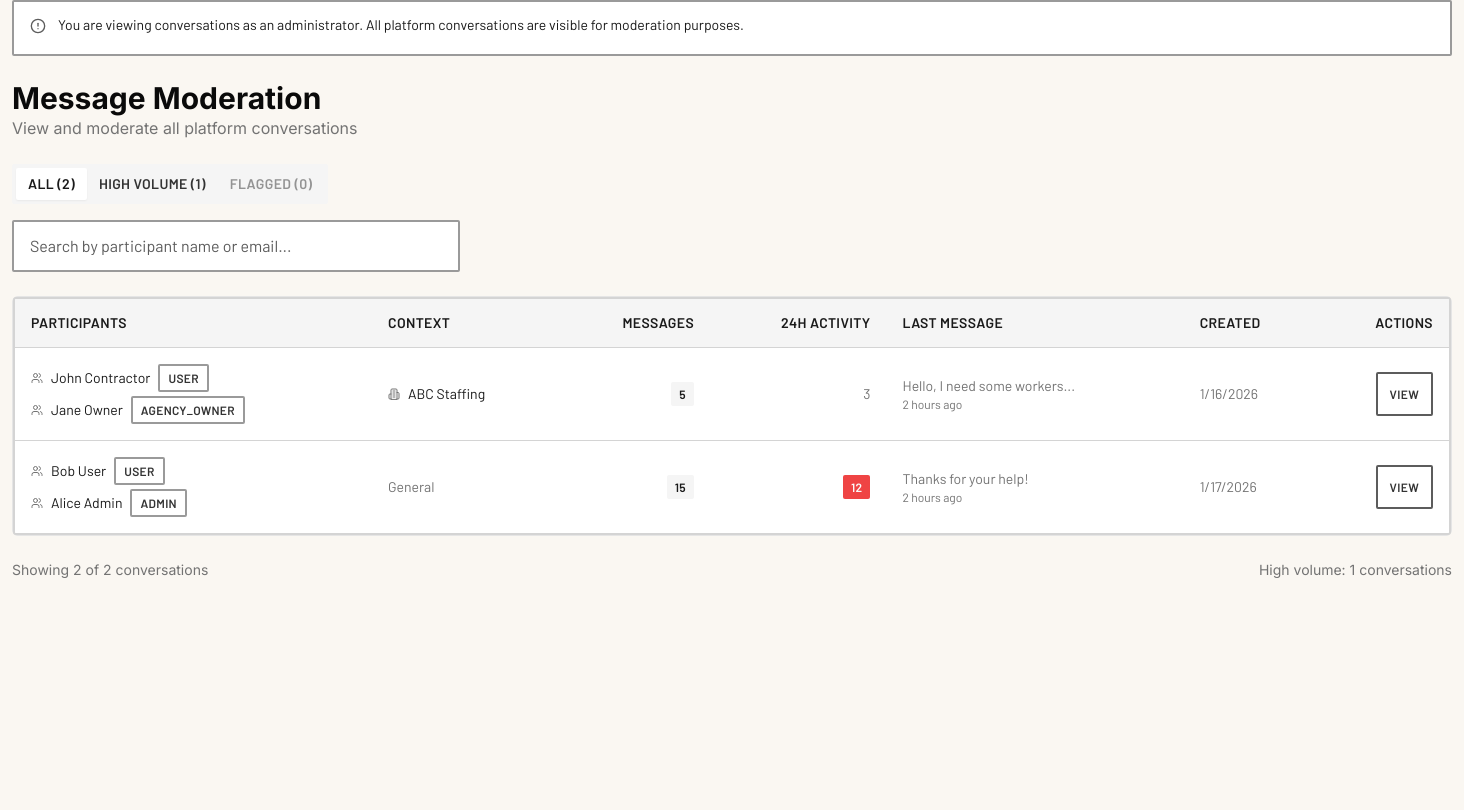
Test case: AdminMessagesClient › Search Functionality › should clear results when search is cleared
Note: Type search
Type "John" into the search field with placeholder "Search by participant name or email..." at (236, 246), box [12, 220, 460, 272]
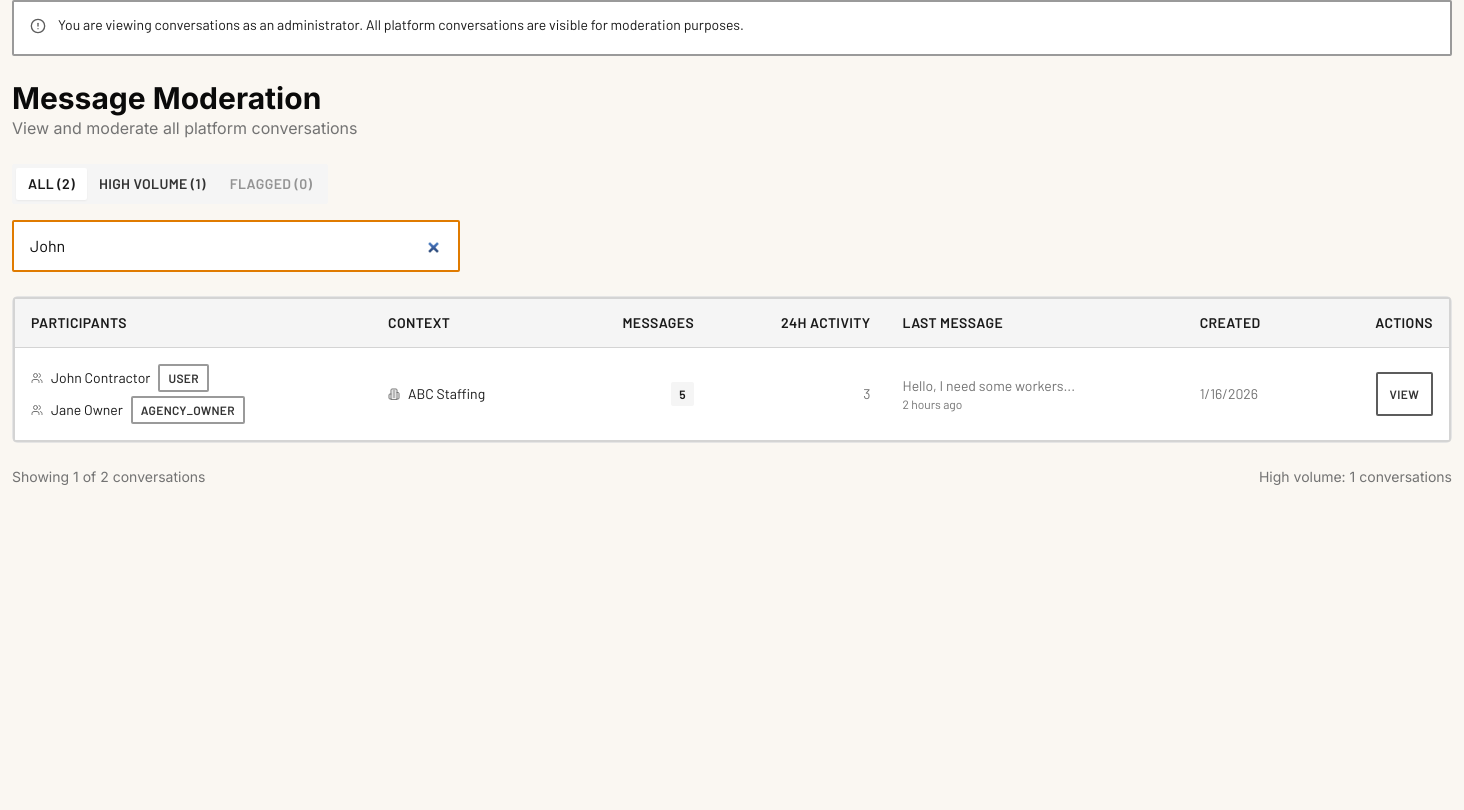
Check: the text "Bob User" is gone
Note: Clear search
Clear the search field with placeholder "Search by participant name or email..." at (236, 246), box [12, 220, 460, 272]
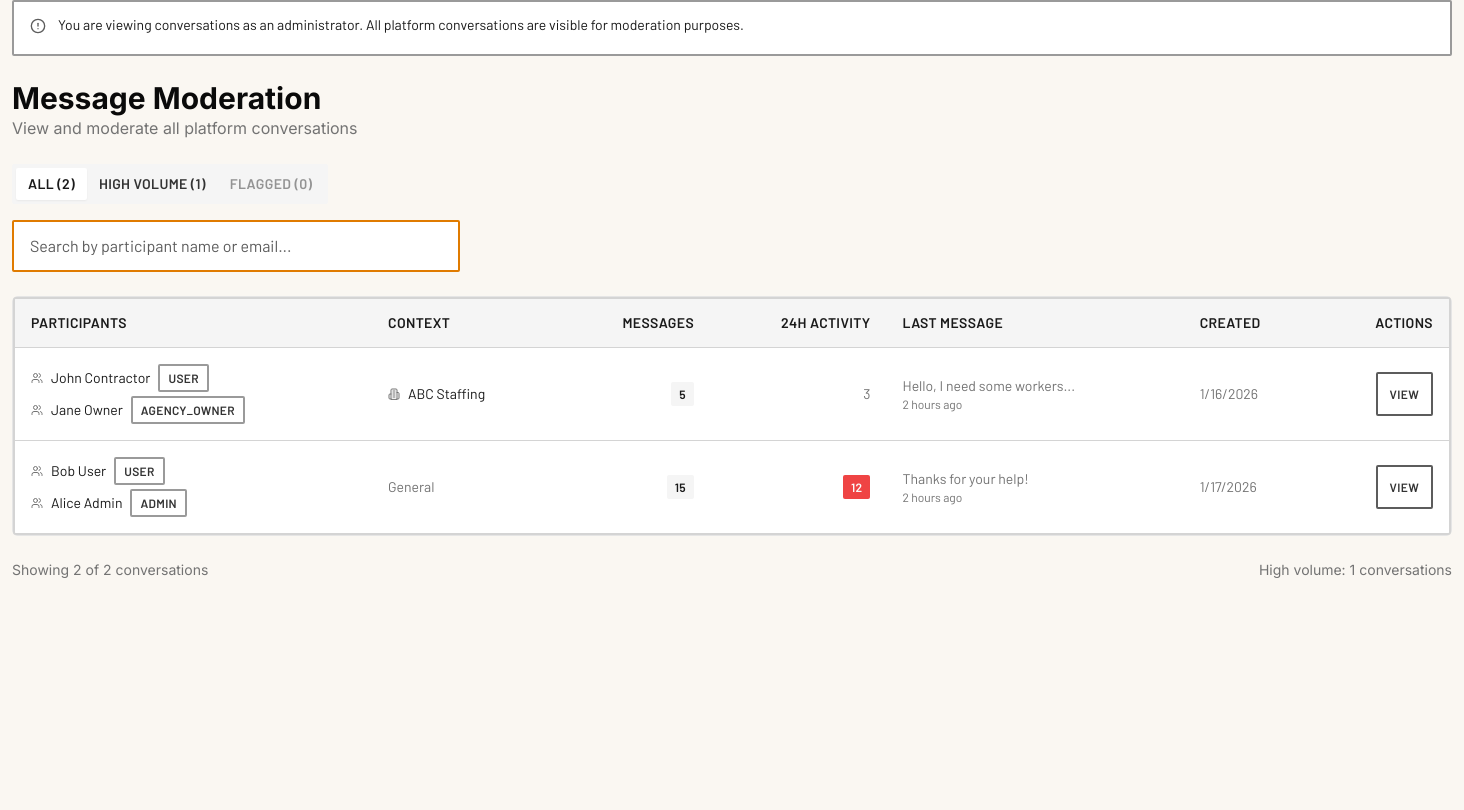
Check: the text "John Contractor" is shown, box [51, 368, 150, 388]
Check: the text "Bob User" is shown, box [51, 460, 106, 480]
